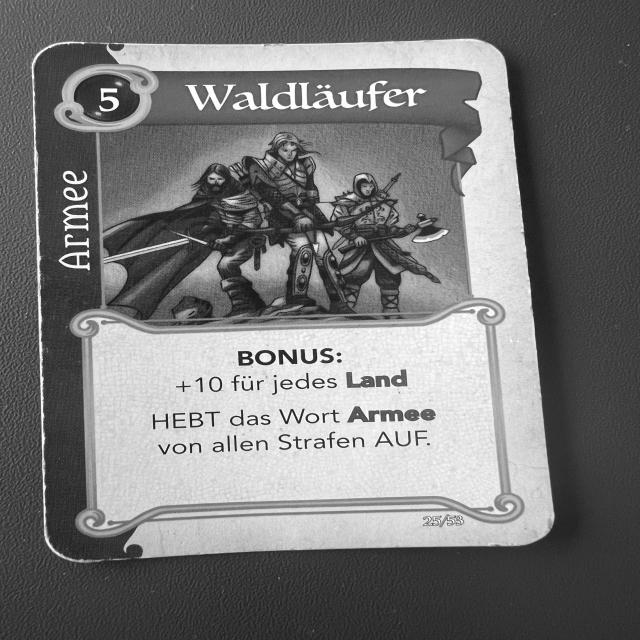Rangers: (35, 37, 563, 563)
